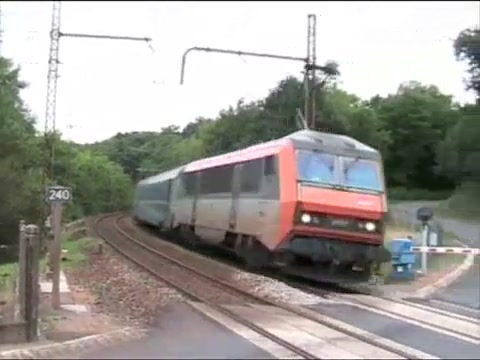train: (132, 129, 391, 287)
